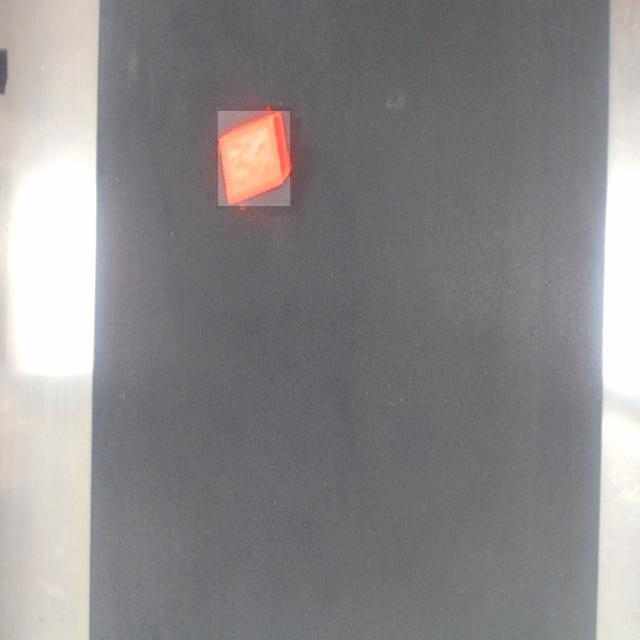Rojo: (219, 112, 290, 206)
